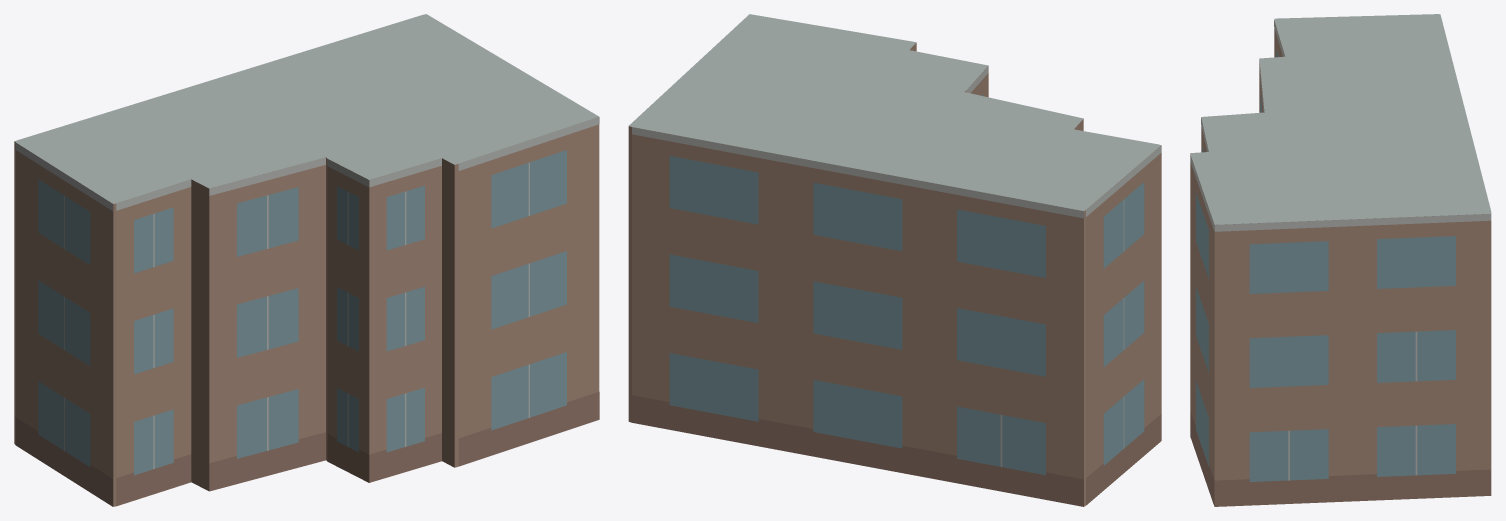
Rendered from survey-upis-32545080.glb.
The picture shows the model from 3 angles, left to right: view 1: azimuth 30°, elevation 25°; view 2: azimuth 150°, elevation 25°; view 3: azimuth 270°, elevation 25°; orthographic projection. The views are drawn at different scales.
Parts seen in each view (by area): view 1: survey-upis-32545080.tmp; view 2: survey-upis-32545080.tmp; view 3: survey-upis-32545080.tmp.
Boxes of the visible parts, x1,y1,x2,y2 form: survey-upis-32545080.tmp: (14,14,599,506); survey-upis-32545080.tmp: (628,14,1161,506); survey-upis-32545080.tmp: (1190,14,1491,506).
Size of the model in its own units: 15.88 by 9.9 by 9.59.
